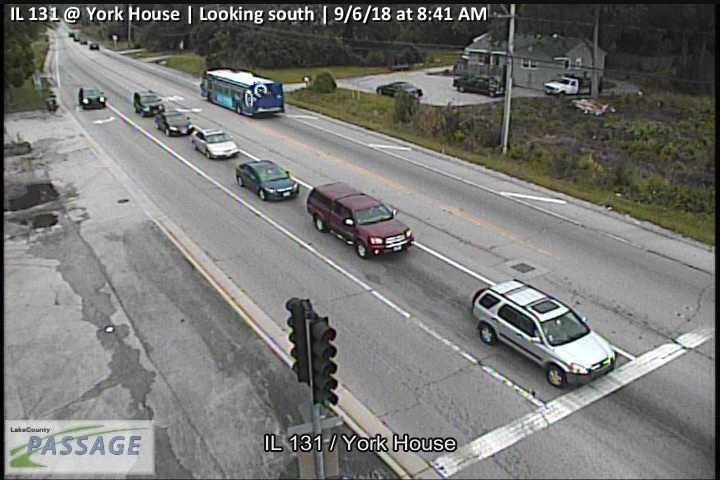Bus: (201, 68, 285, 118)
SUV: (472, 278, 617, 387), (306, 179, 414, 259), (133, 88, 166, 117)
Sedan: (234, 158, 301, 201), (192, 127, 239, 159), (155, 111, 195, 137), (377, 81, 424, 98), (77, 87, 108, 110)
Truck: (451, 72, 503, 96), (544, 75, 602, 96)
